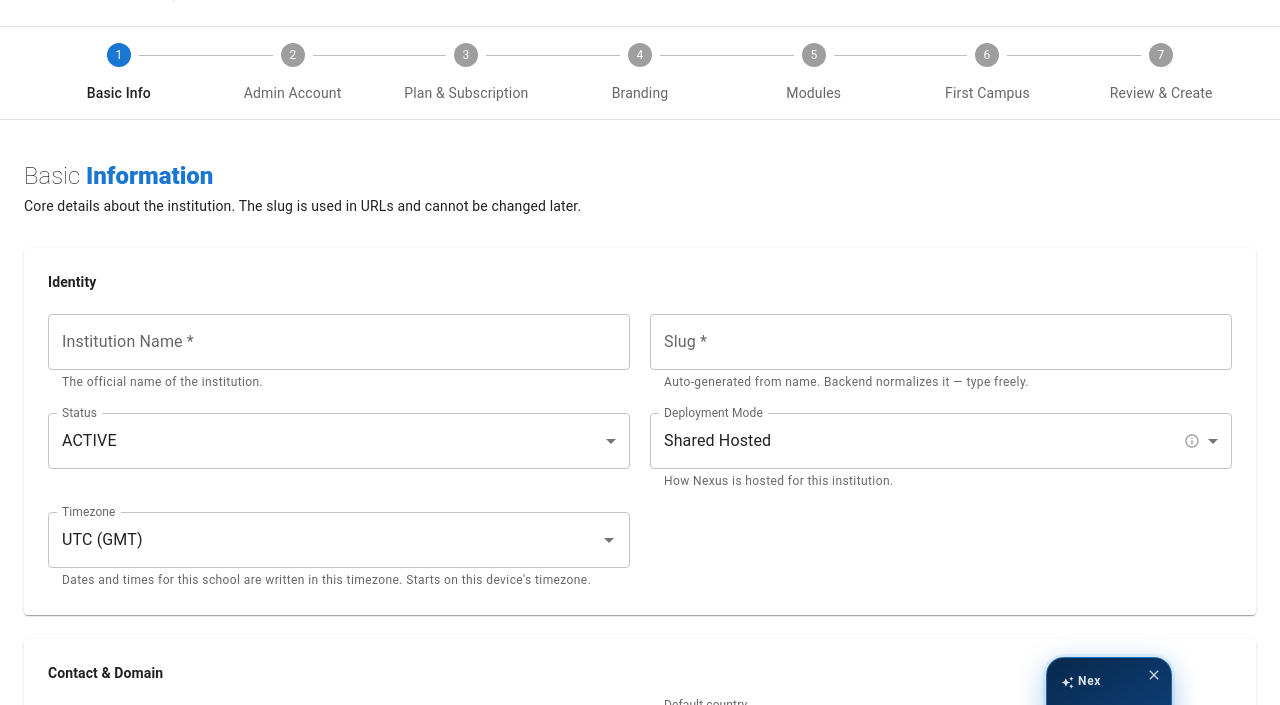
Test: New institution wizard › derives the slug from the name and gates Continue on name and slug
Type "Green Valley School!" into the field labelled "Institution Name *" at (339, 342), box [48, 314, 630, 370]
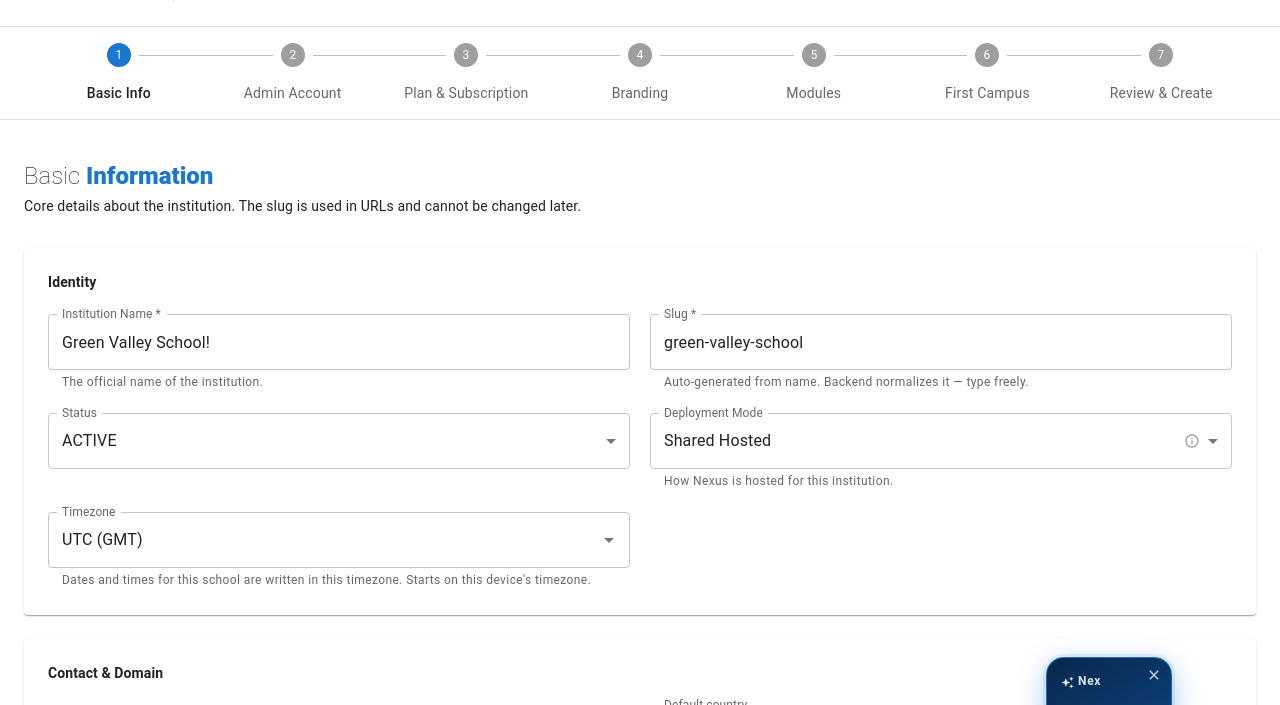
Result: the field labelled "Slug *" holds "green-valley-school"
Clear the field labelled "Slug *" at (941, 342), box [650, 314, 1232, 370]
(page scrolled)
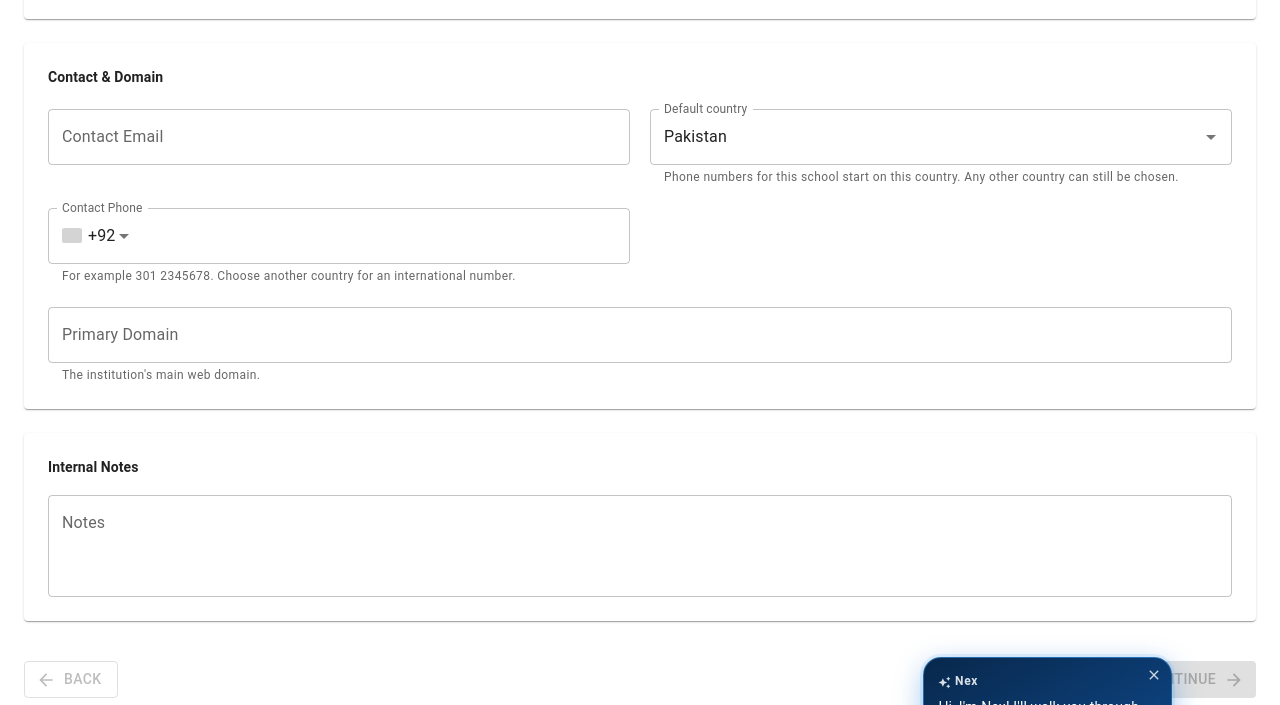
Result: the button "Continue" is disabled at [1129, 661, 1256, 698]
